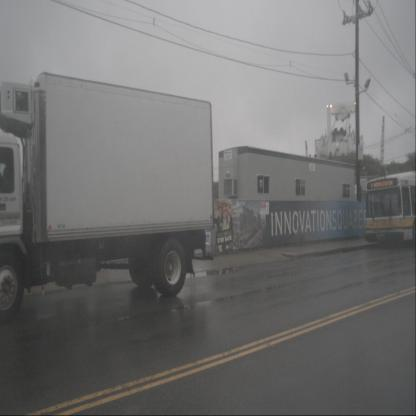vehicle-bus-rigid: (365, 170, 415, 249)
vehicle-truck: (0, 71, 214, 322)
